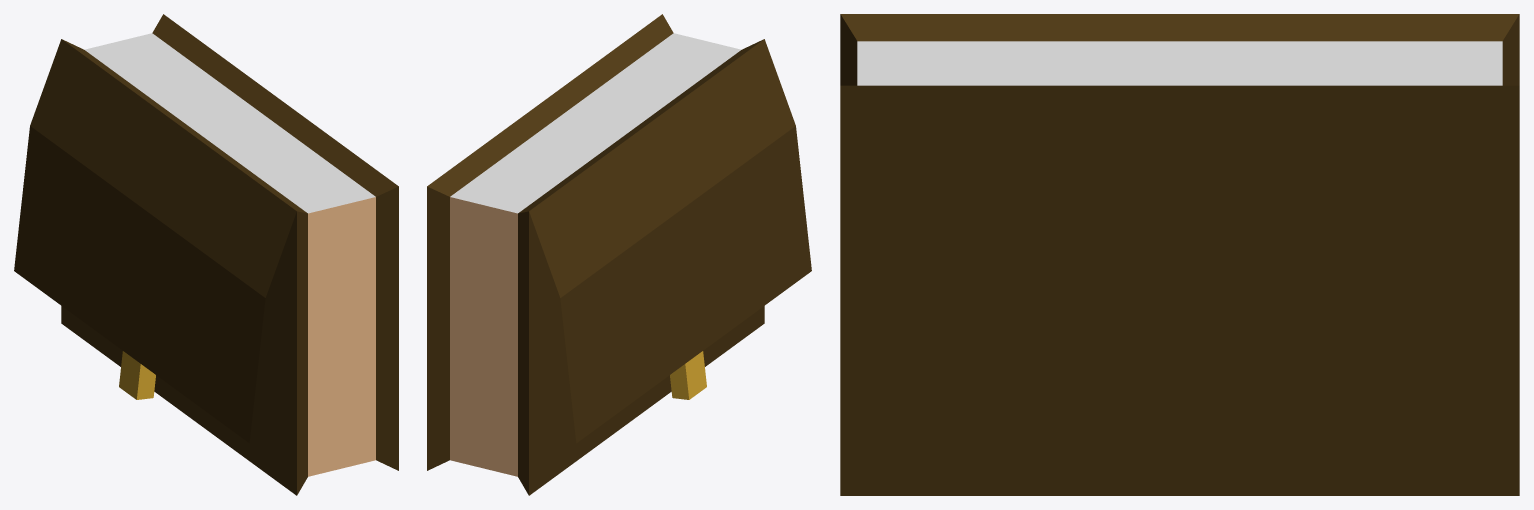
Rendered from business_bag.fbx.
The picture shows the model from 3 angles, left to right: view 1: azimuth 30°, elevation 25°; view 2: azimuth 150°, elevation 25°; view 3: azimuth 270°, elevation 25°; orthographic projection. The views are drawn at different scales.
Parts seen in each view (by area): view 1: Cube; view 2: Cube; view 3: Cube.
Boxes of the visible parts, x1=… form: Cube: x1=14, y1=14, x2=398, y2=495; Cube: x1=427, y1=14, x2=811, y2=495; Cube: x1=840, y1=14, x2=1519, y2=495.
Bounding box in the file's own units: 45.1 × 80 × 120.
